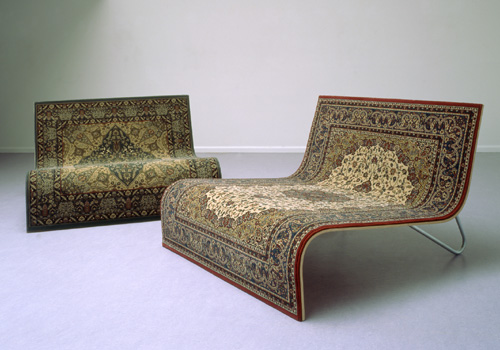chairs: (161, 94, 487, 320), (22, 96, 224, 235)
